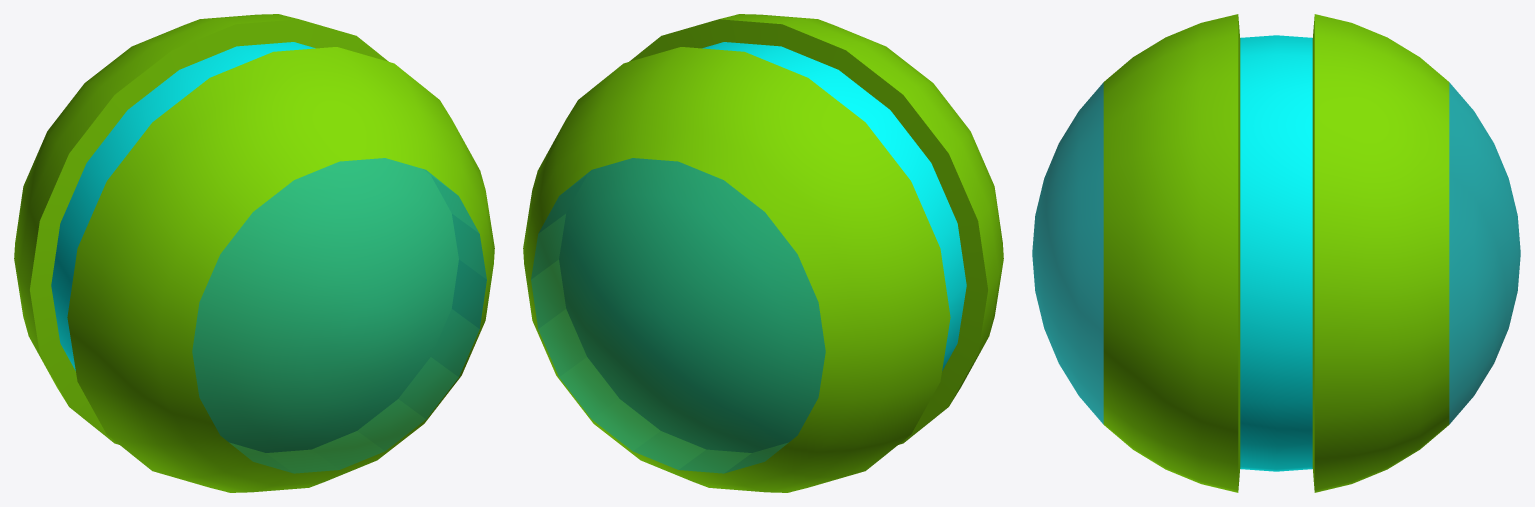
File: Ball.fbx
3 views of the same model, side by side, from view 1: azimuth 30°, elevation 25°; view 2: azimuth 150°, elevation 25°; view 3: azimuth 270°, elevation 25° (orthographic).
Parts seen in each view (by area): view 1: Ball_Main, Ball_Sides; view 2: Ball_Main, Ball_Sides; view 3: Ball_Main, Ball_Sides.
Part boxes in pixels (left/top/right/bottom): Ball_Main: left=14, top=14, right=494, bottom=492; Ball_Sides: left=192, top=158, right=486, bottom=473; Ball_Main: left=523, top=14, right=1003, bottom=492; Ball_Sides: left=531, top=158, right=825, bottom=473; Ball_Main: left=1103, top=14, right=1449, bottom=492; Ball_Sides: left=1032, top=82, right=1520, bottom=424.
Bounding box in the file's own units: 19.75 × 19.75 × 20.
